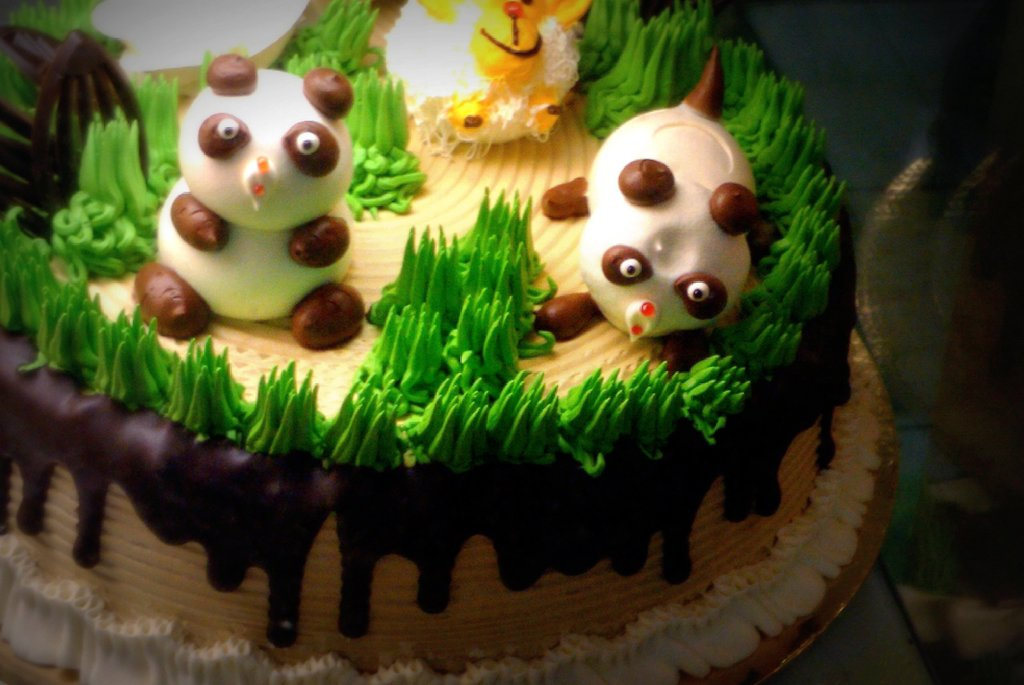cake: (0, 0, 883, 684)
